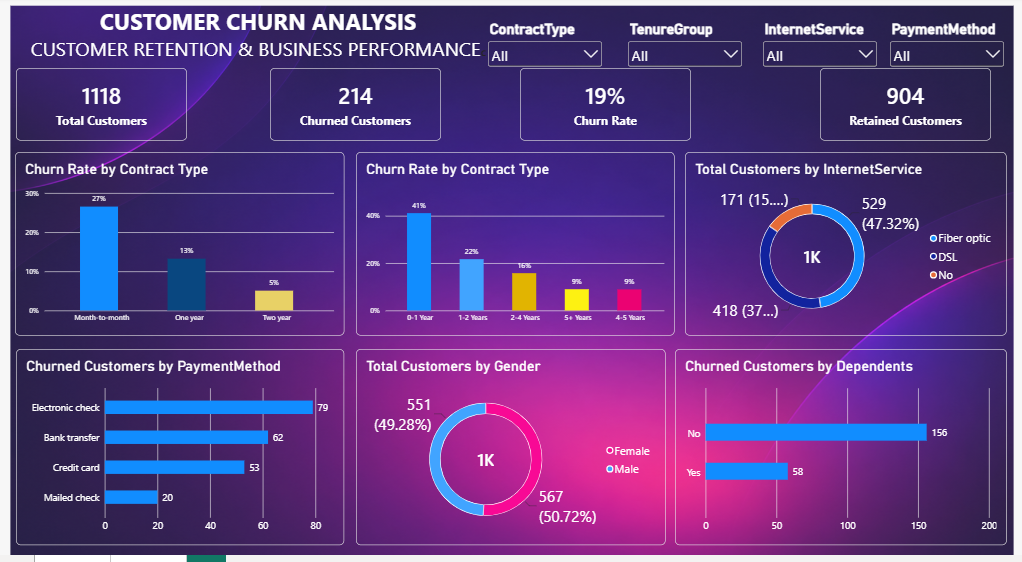

The dashboard page shown, as its layout file describes it:
{"tool":"powerbi","page":{"name":"Page 1","canvas":[1920,1080],"ordinal":0},"visuals":[{"type":"textbox","box":[133.9,99.9,807.9,127.6],"z":0},{"type":"card","fields":{"Values":["customer_churn_analysis (1).Total Customers"]},"box":[133.3,200,284.9,121.2],"z":1000},{"type":"card","fields":{"Values":["customer_churn_analysis (1).Churned Customers"]},"box":[537.8,200,284.9,121.2],"z":2000},{"type":"card","fields":{"Values":["customer_churn_analysis (1).Churn Rate"]},"box":[995.6,200,284.9,121.2],"z":3000},{"type":"card","fields":{"Values":["customer_churn_analysis (1).Retained Customers"]},"box":[1473.3,200,284.9,121.2],"z":4000},{"type":"clusteredColumnChart","title":"Churn Rate by Contract Type","fields":{"Category":["customer_churn_analysis (1).ContractType"],"Y":["customer_churn_analysis (1).Churn Rate"]},"box":[131.1,340,548.9,275.6],"z":5000},{"type":"clusteredColumnChart","title":"Churn Rate by Contract Type","fields":{"Category":["customer_churn_analysis (1).TenureGroup"],"Y":["customer_churn_analysis (1).Churn Rate"]},"box":[700,340,531.1,275.6],"z":6000},{"type":"donutChart","fields":{"Category":["customer_churn_analysis (1).InternetService"],"Y":["customer_churn_analysis (1).Total Customers"]},"box":[1248.9,340,535.6,275.6],"z":7000},{"type":"barChart","fields":{"Category":["customer_churn_analysis (1).PaymentMethod"],"Y":["customer_churn_analysis (1).Churned Customers"]},"box":[133.3,637.8,546.7,326.7],"z":8000},{"type":"donutChart","fields":{"Category":["customer_churn_analysis (1).Gender"],"Y":["customer_churn_analysis (1).Total Customers"]},"box":[700,637.8,515.6,326.7],"z":9000},{"type":"barChart","fields":{"Category":["customer_churn_analysis (1).Dependents"],"Y":["customer_churn_analysis (1).Churned Customers"]},"box":[1231.1,637.8,553.3,326.7],"z":10000},{"type":"slicer","fields":{"Values":["customer_churn_analysis (1).ContractType"]},"box":[915.6,91.1,200,108.9],"z":10001},{"type":"slicer","fields":{"Values":["customer_churn_analysis (1).TenureGroup"]},"box":[1148.9,91.1,200,108.9],"z":10002},{"type":"slicer","fields":{"Values":["customer_churn_analysis (1).InternetService"]},"box":[1373.3,91.1,200,108.9],"z":10003},{"type":"slicer","fields":{"Values":["customer_churn_analysis (1).PaymentMethod"]},"box":[1584.4,91.1,200,108.9],"z":10004}]}

Visuals, with their boxes in screenshot pixels (x1, y1, x2, y2), scaled from the page's 1920x1080 canvas onto the 1022x562 screenshot:
textbox: 71,52,501,118
card - customer_churn_analysis (1).Total Customers: 71,104,223,167
card - customer_churn_analysis (1).Churned Customers: 286,104,438,167
card - customer_churn_analysis (1).Churn Rate: 530,104,682,167
card - customer_churn_analysis (1).Retained Customers: 784,104,936,167
"Churn Rate by Contract Type" clusteredColumnChart: 70,177,362,320
"Churn Rate by Contract Type" clusteredColumnChart: 373,177,655,320
donutChart - customer_churn_analysis (1).InternetService x customer_churn_analysis (1).Total Customers: 665,177,950,320
barChart - customer_churn_analysis (1).PaymentMethod x customer_churn_analysis (1).Churned Customers: 71,332,362,502
donutChart - customer_churn_analysis (1).Gender x customer_churn_analysis (1).Total Customers: 373,332,647,502
barChart - customer_churn_analysis (1).Dependents x customer_churn_analysis (1).Churned Customers: 655,332,950,502
slicer - customer_churn_analysis (1).ContractType: 487,47,594,104
slicer - customer_churn_analysis (1).TenureGroup: 612,47,718,104
slicer - customer_churn_analysis (1).InternetService: 731,47,837,104
slicer - customer_churn_analysis (1).PaymentMethod: 843,47,950,104
